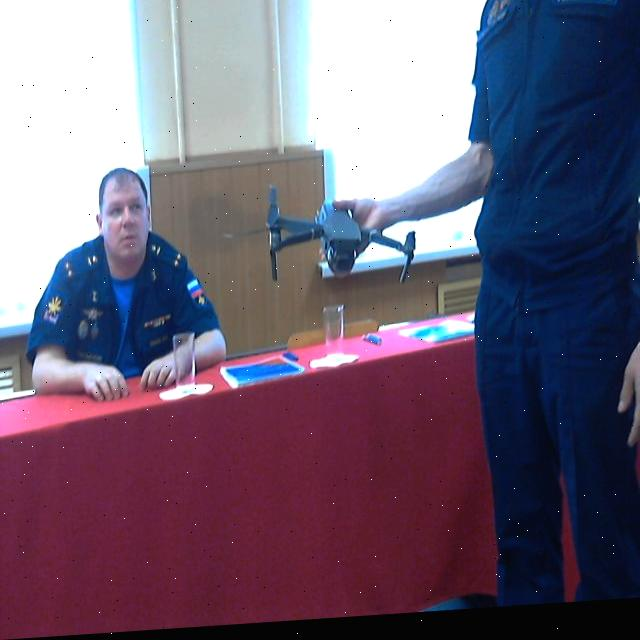drone: (238, 160, 428, 306)
